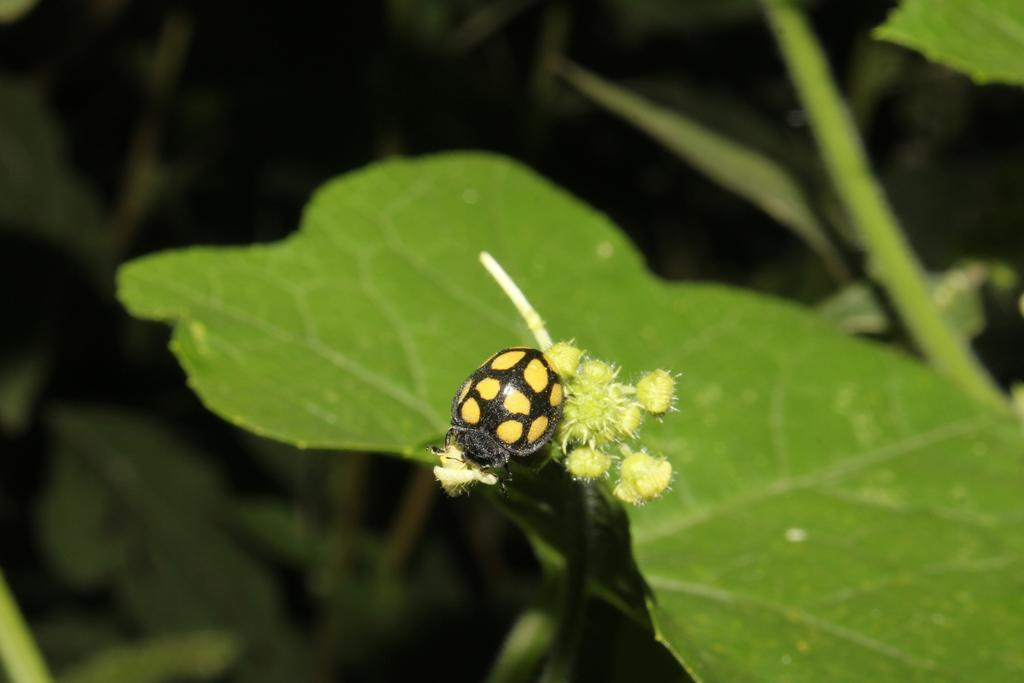ladybug: (431, 345, 570, 499)
